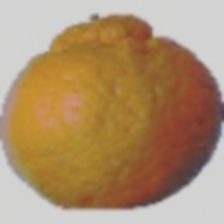tangerine: (29, 15, 224, 215)
